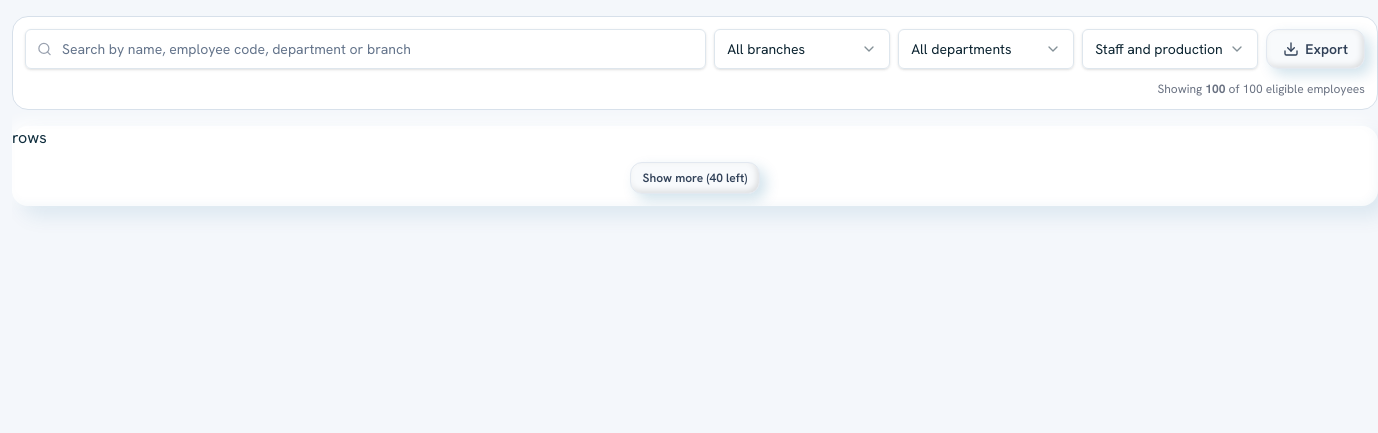
Test: the Casual Leave view frame › offers more rows only when some are left, and Export is off with nothing to export
Click the button with test id "show-more": (695, 178) [630,162,760,194]
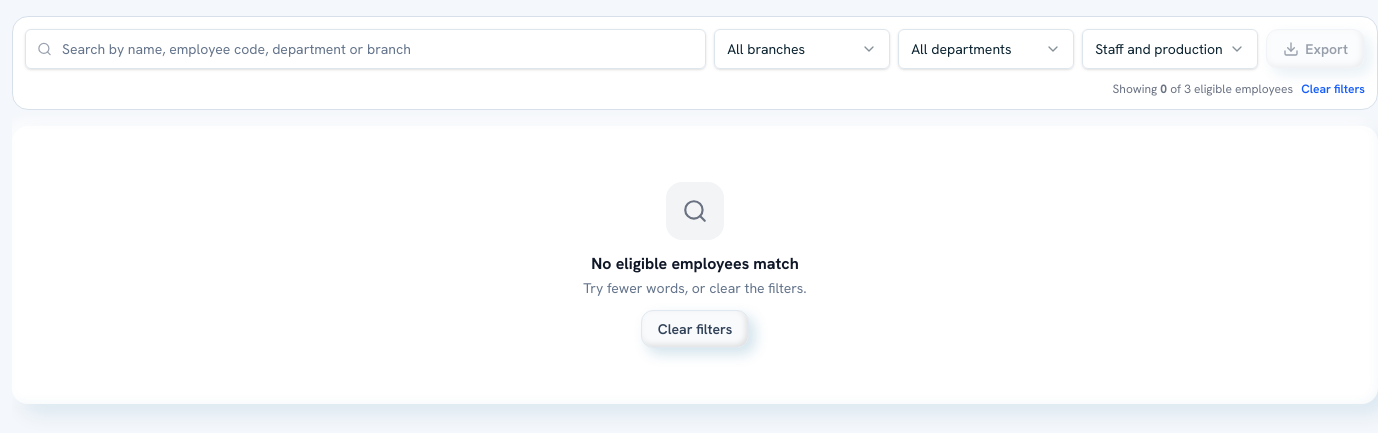
Expected: the button with test id "eligible-export" is disabled, [1266,29,1365,69]
